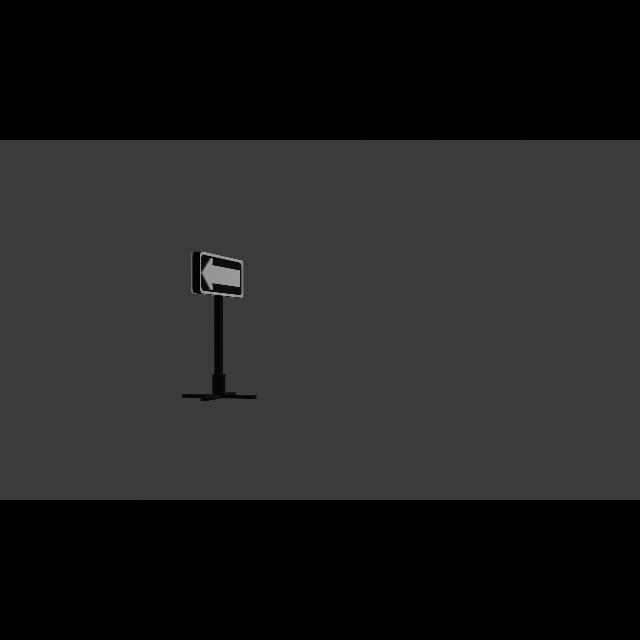sign_oneway_left: (190, 251, 247, 299)
